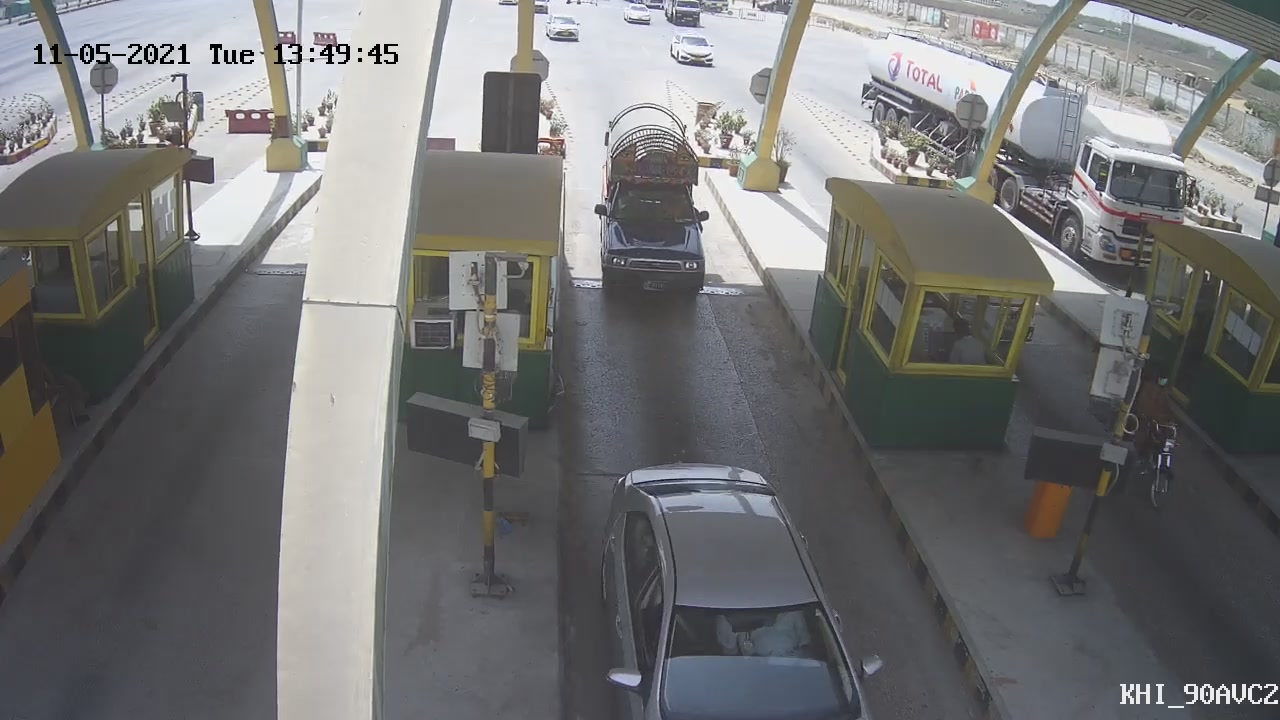F1: (599, 100, 713, 307)
